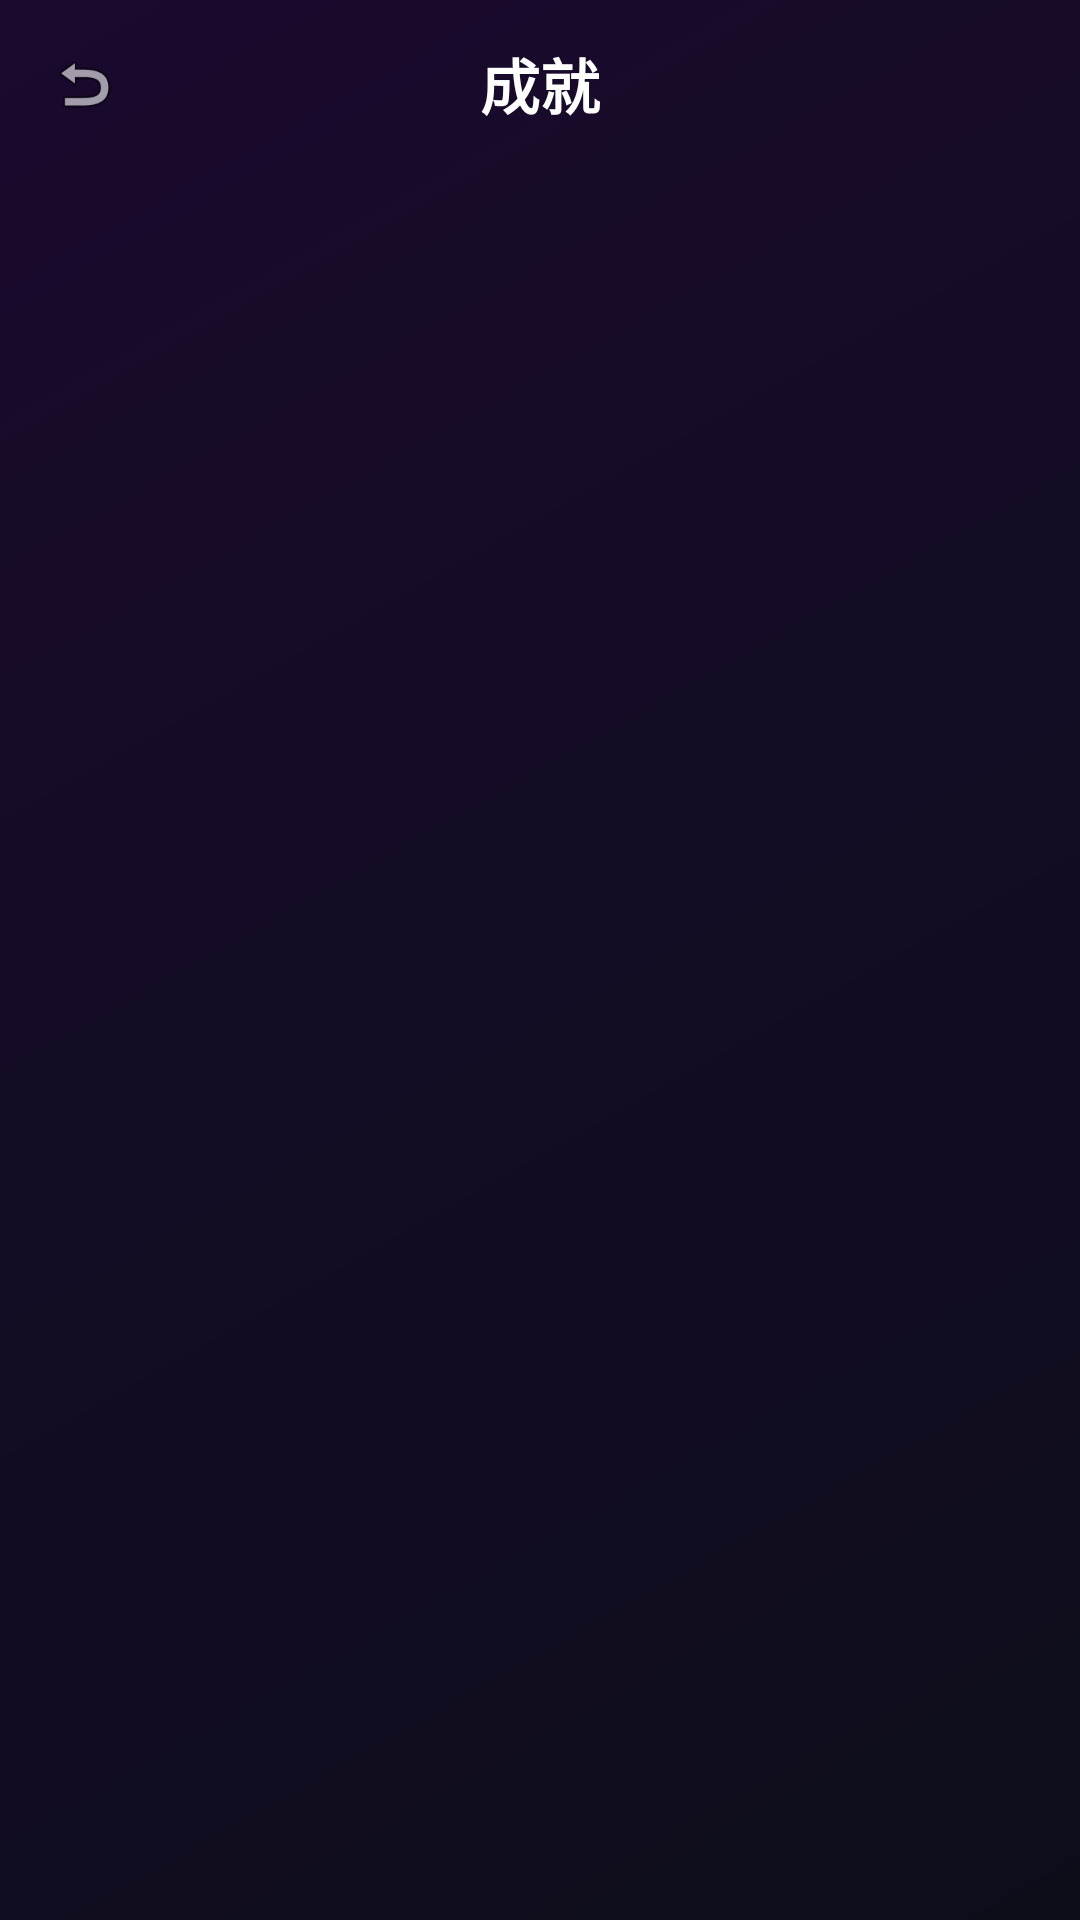

Icon bounding boxes for this 1080 × 1920 phone screenshot, format [x1,y1,x2,y2]:
返回: [61,63,109,106]
